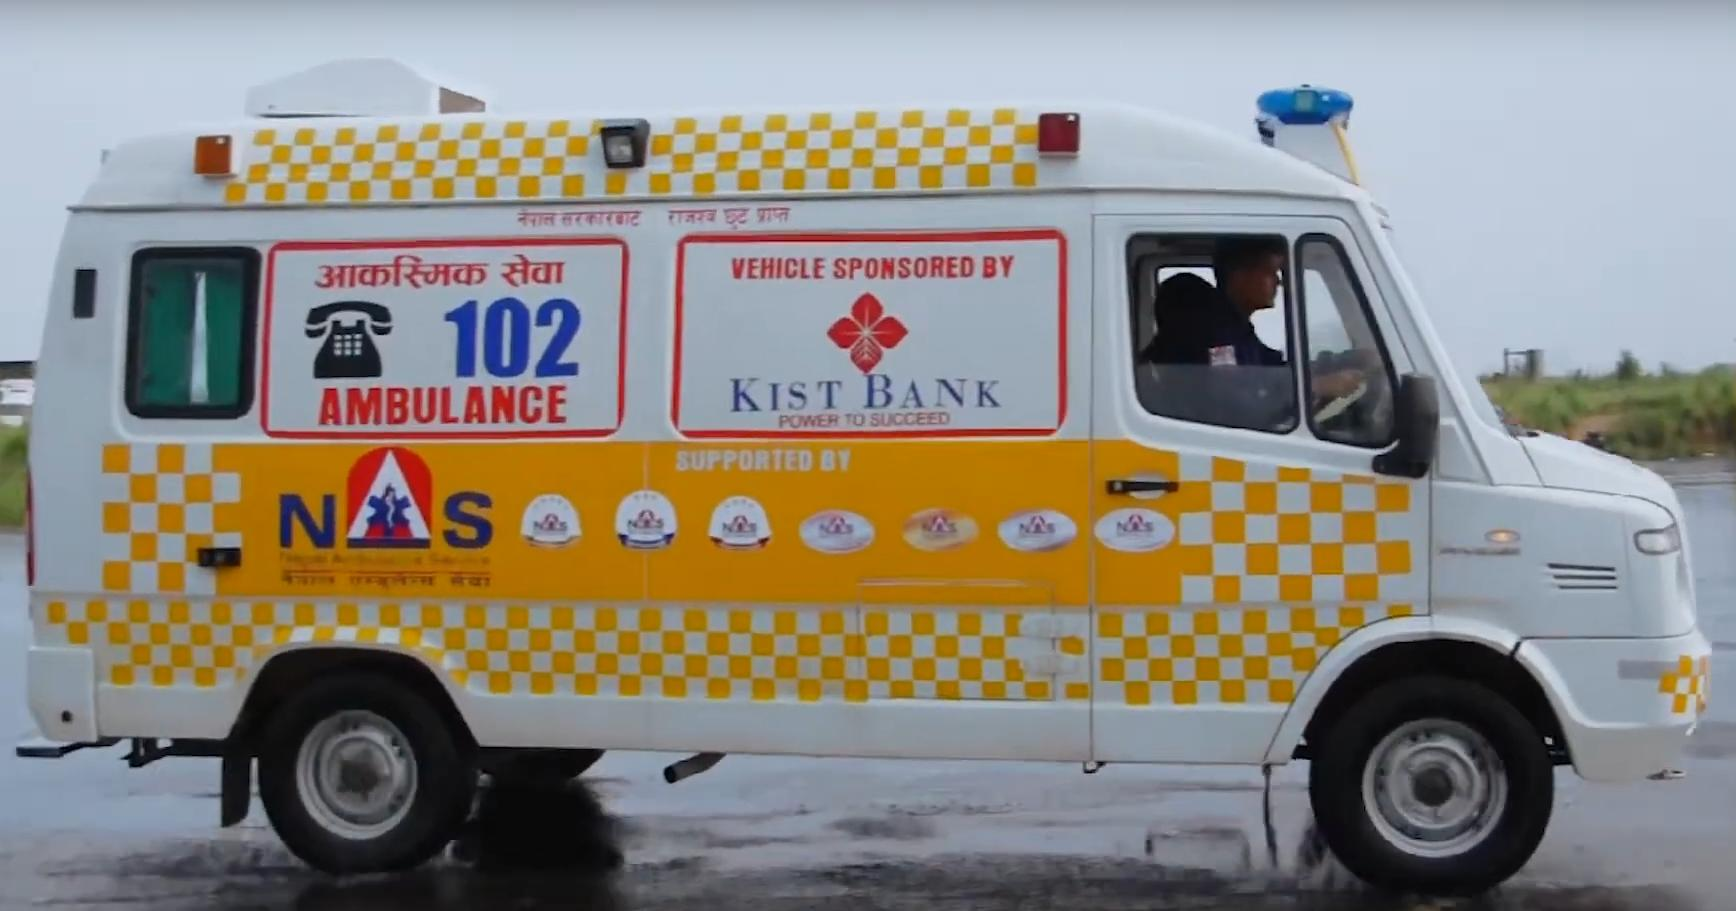ambulance: (0, 46, 1729, 911)
